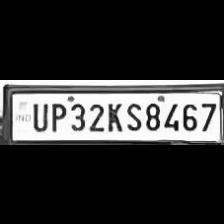2: (86, 99, 104, 131)
3: (67, 99, 85, 130)
4: (161, 99, 179, 130)
6: (178, 99, 198, 130)
7: (198, 99, 216, 131)
8: (142, 99, 160, 130)
K: (104, 99, 122, 131)
P: (48, 99, 66, 131)
S: (124, 98, 142, 130)
U: (27, 99, 47, 130)
